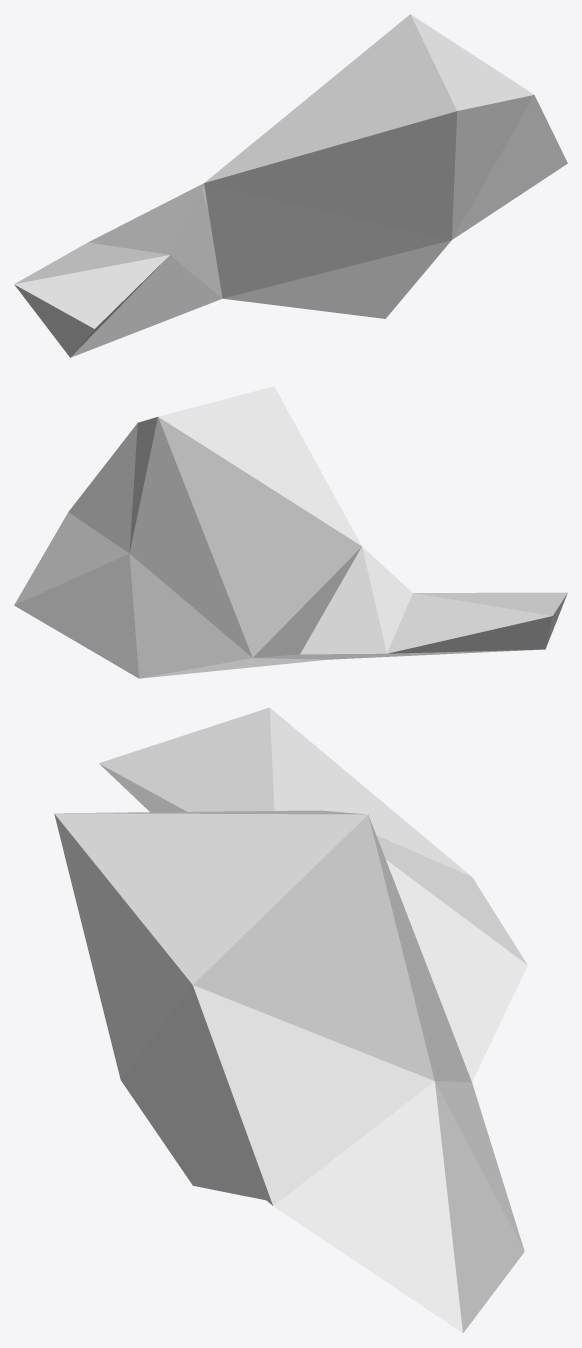
File: resource__decoration__snow_1.fbx
3 renders of one model, top to bottom at view 1: azimuth 30°, elevation 25°; view 2: azimuth 150°, elevation 25°; view 3: azimuth 270°, elevation 25°, orthographic. The views are drawn at different scales.
Parts seen in each view (by area): view 1: Snow_01; view 2: Snow_01; view 3: Snow_01.
Boxes of the visible parts, left/top/right/bottom form: Snow_01: left=14, top=14, right=567, bottom=357; Snow_01: left=14, top=386, right=567, bottom=678; Snow_01: left=54, top=707, right=527, bottom=1333.
Size of the model in its own units: 978 by 435 by 409.
